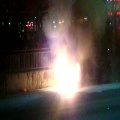fire: (49, 51, 79, 98)
